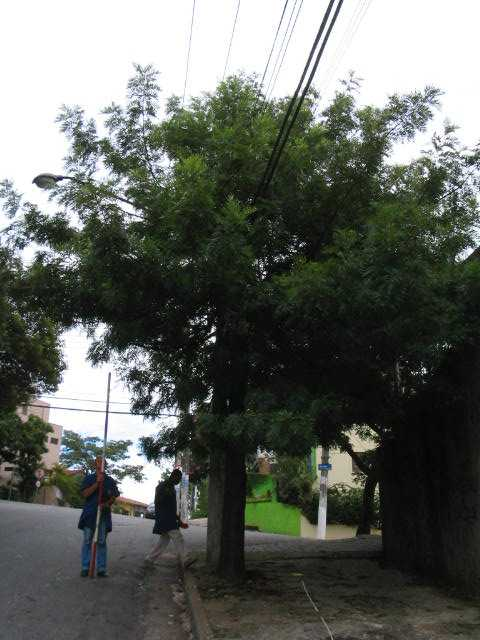crown: (18, 61, 476, 457)
stem: (216, 460, 254, 583), (353, 477, 381, 536)
stick: (82, 371, 114, 580)
tree: (14, 60, 477, 585)
